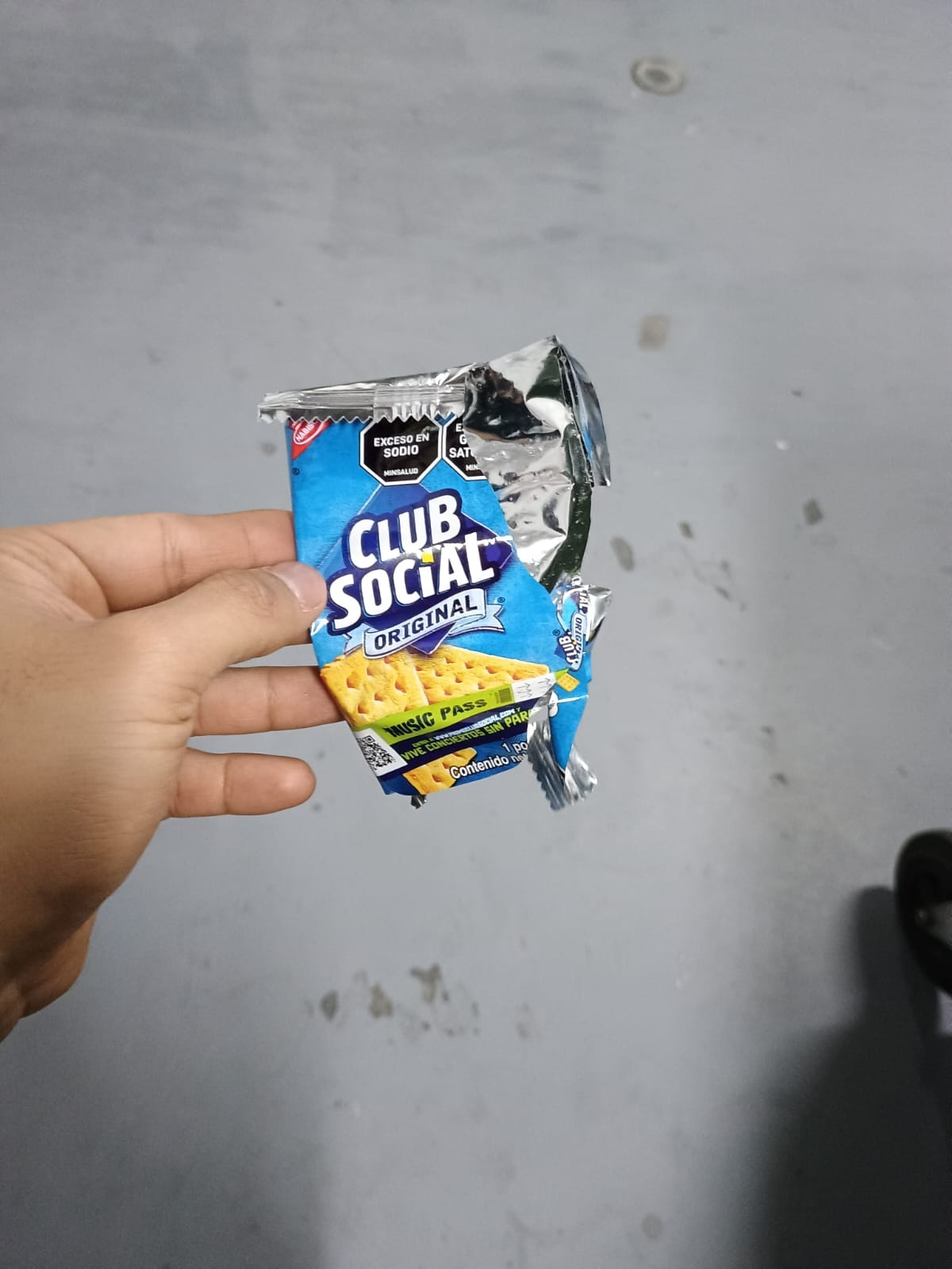Ordinario: (289, 335, 613, 805)
